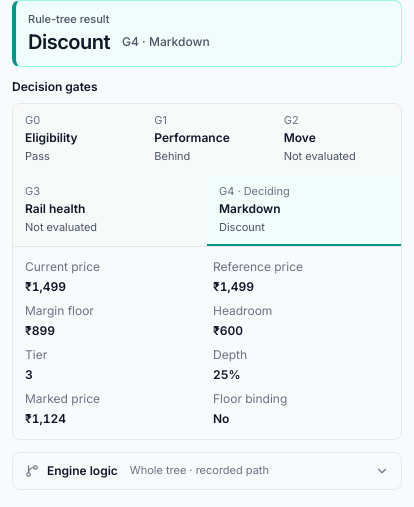
it: numeric engine display › shows the rule-tree result, deciding gates and setting thresholds
Expected: the heading "Discount" is shown, [28, 28, 110, 56]
Expected: the text "G4 · Deciding" is shown, [219, 184, 290, 198]
Click the button "G2 Move Not evaluated": (336, 139) [272, 104, 401, 174]
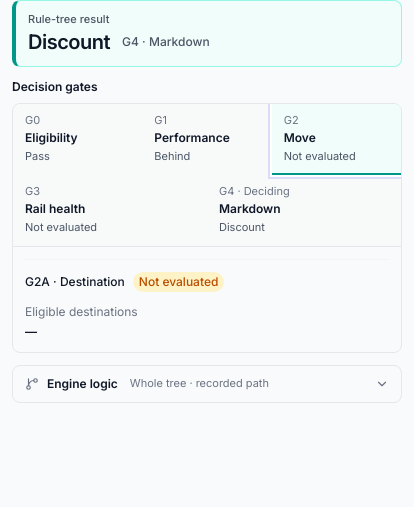
Expected: the button "G3 Rail health Not evaluated" is shown, [13, 174, 207, 246]
Expected: the text "G2A · Destination" is shown, [25, 274, 125, 290]
Click the button "G0 Eligibility Pass": (78, 139) [13, 104, 142, 174]
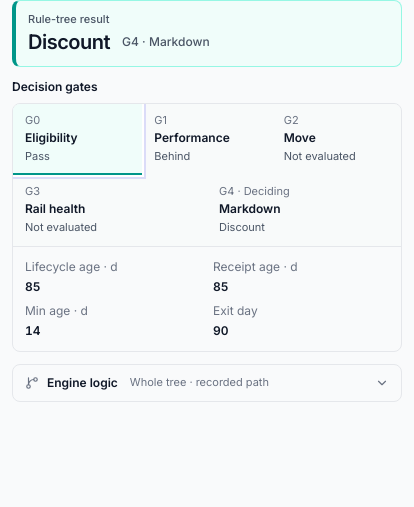
Expected: the text "14" is shown, [25, 322, 40, 338]
